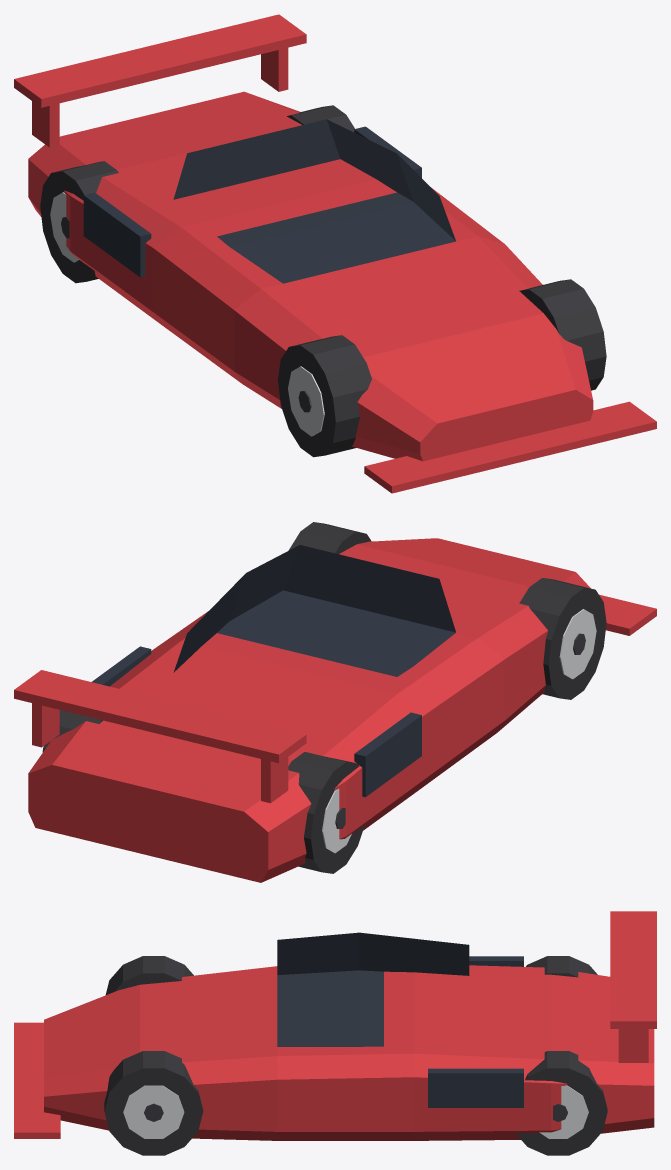
The model's file is super3.glb.
The picture shows the model from 3 angles, top to bottom: view 1: azimuth 30°, elevation 25°; view 2: azimuth 150°, elevation 25°; view 3: azimuth 270°, elevation 25°; orthographic projection. The views are drawn at different scales.
Visible parts, largest first — view 1: body, glass_canopy, wing, wheel_front_L, splitter, wheel_front_R, wheel_rear_L, intake, wu, wu.001, wheel_rear_R; view 2: body, glass_canopy, wing, wheel_front_L, wheel_rear_L, intake, wheel_front_R, splitter, wu, wu.001, intake.001, wheel_rear_R; view 3: body, glass_canopy, wheel_front_R, wing, wheel_rear_R, splitter, intake.001, wheel_front_L, wu.001, wheel_rear_L, intake.
Boxes of the visible parts, <box> form: body: <box>28,91,593,461</box>; glass_canopy: <box>173,119,455,283</box>; wing: <box>14,14,306,107</box>; wheel_front_L: <box>278,335,371,457</box>; splitter: <box>364,401,656,493</box>; wheel_front_R: <box>519,279,606,390</box>; wheel_rear_L: <box>40,161,118,283</box>; intake: <box>83,192,151,277</box>; wu: <box>32,101,59,147</box>; wu.001: <box>261,47,288,91</box>; wheel_rear_R: <box>286,105,354,132</box>; body: <box>28,538,590,882</box>; glass_canopy: <box>173,545,455,676</box>; wing: <box>14,670,306,763</box>; wheel_front_L: <box>519,578,606,699</box>; wheel_rear_L: <box>288,752,364,873</box>; intake: <box>354,712,421,797</box>; wheel_front_R: <box>288,522,371,554</box>; splitter: <box>599,594,656,635</box>; wu: <box>261,757,288,803</box>; wu.001: <box>32,703,59,747</box>; intake.001: <box>92,646,151,686</box>; wheel_rear_R: <box>42,710,102,752</box>; body: <box>44,965,654,1140</box>; glass_canopy: <box>277,932,469,1046</box>; wheel_front_R: <box>104,1051,203,1155</box>; wing: <box>610,911,656,1028</box>; wheel_rear_R: <box>516,1051,607,1155</box>; splitter: <box>14,1022,60,1138</box>; intake.001: <box>428,1068,523,1107</box>; wheel_front_L: <box>105,956,193,994</box>; wu.001: <box>618,1029,648,1062</box>; wheel_rear_L: <box>526,956,597,977</box>; intake: <box>469,956,523,966</box>.
Bounding box in the file's own units: 2.02 × 1.09 × 4.69.
